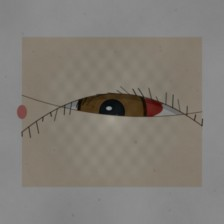hemorrhage_spot: (88, 74, 175, 143)
